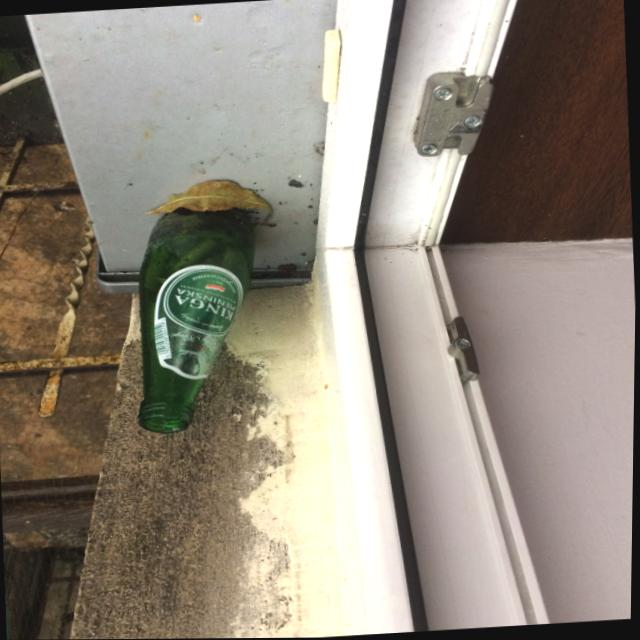Bottle-Glass: (98, 174, 293, 454)
